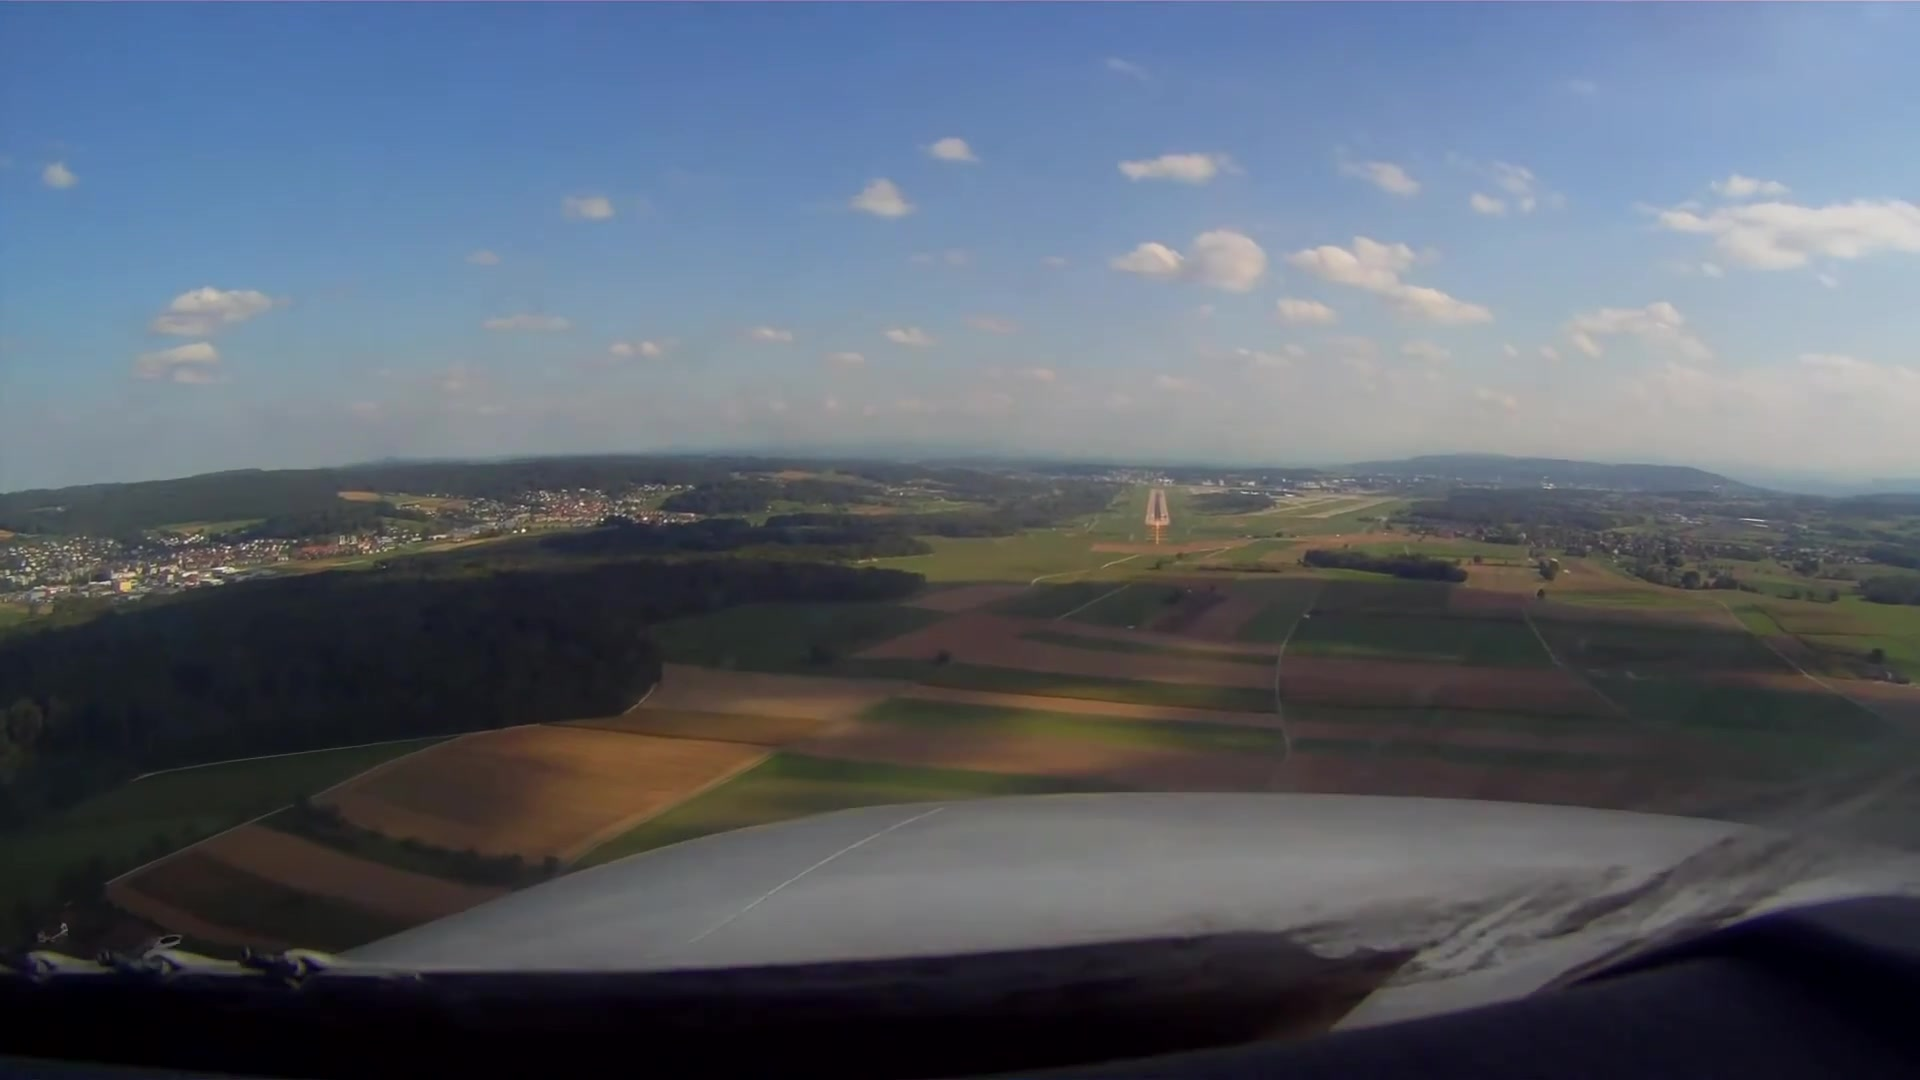runway: (1143, 491, 1171, 529)
